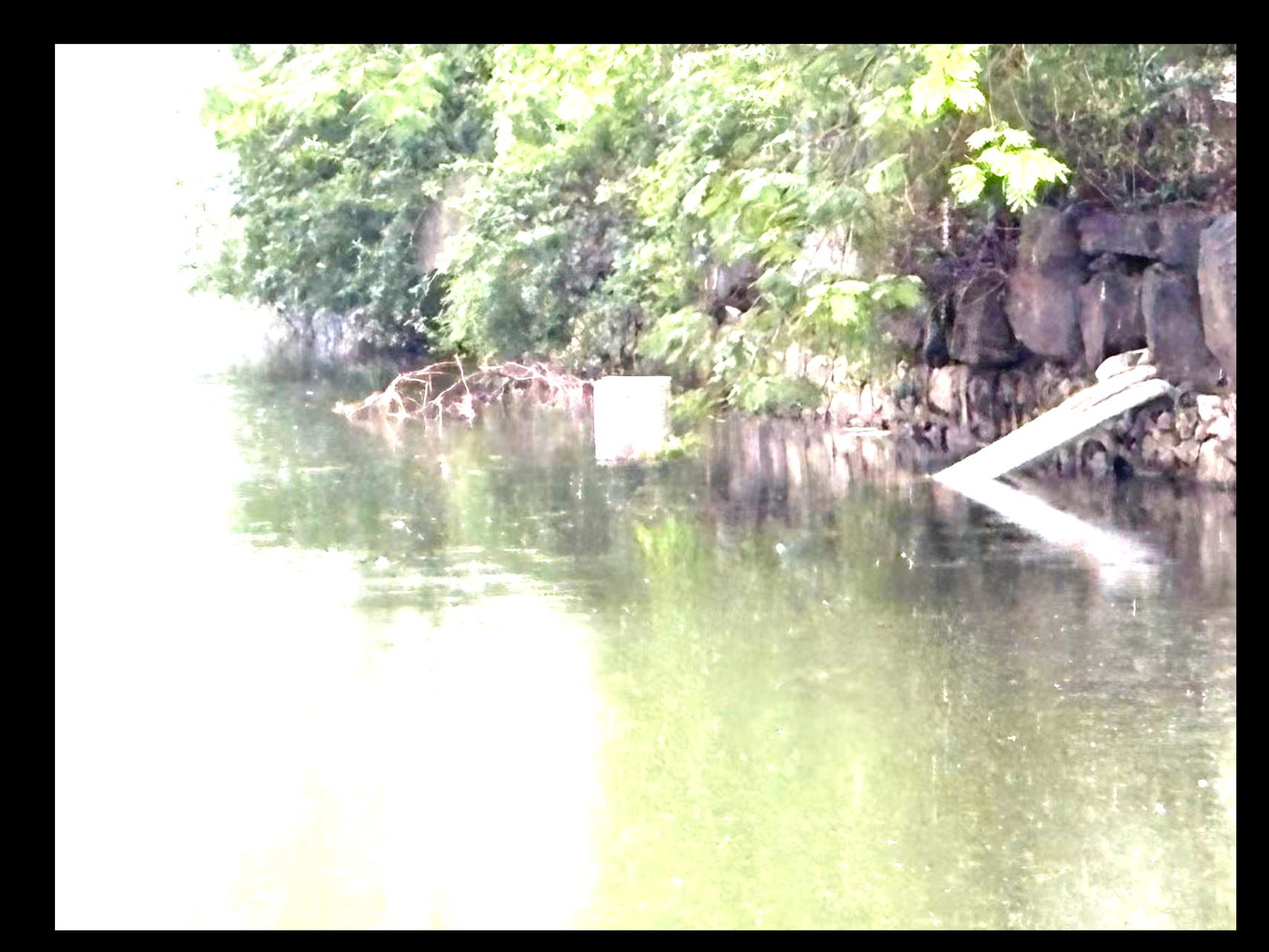Plastic wastes: (587, 373, 668, 431)
